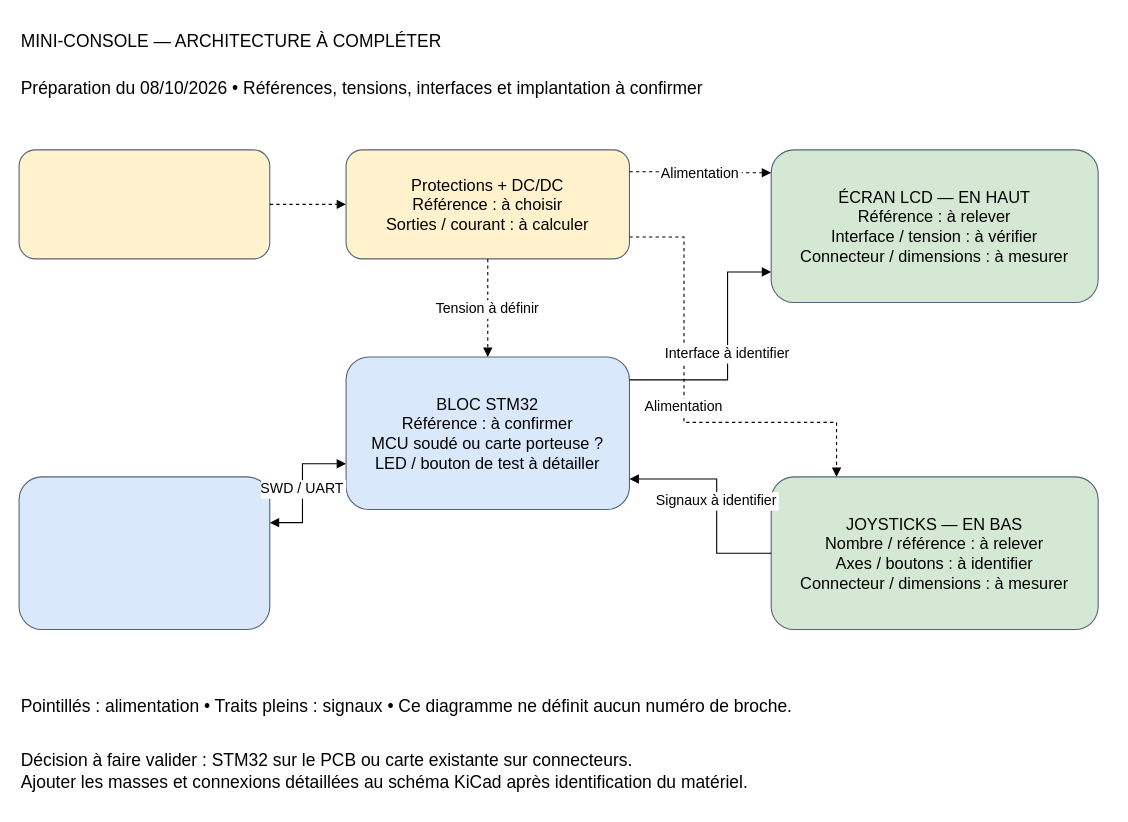
The diagram is 1128 pixels wide and 822 high, and some of its shapes have lost their labels. The shapes that lost their labels are listed below. From the top down, each one's centre as x and y in pixels, then its label:
At pixel 144 204: "Entrée alimentation Source : à définir Tension : à confirmer".
At pixel 144 552: "PROGRAMMATION / TEST SWD + UART Connecteurs et broches à confirmer".
